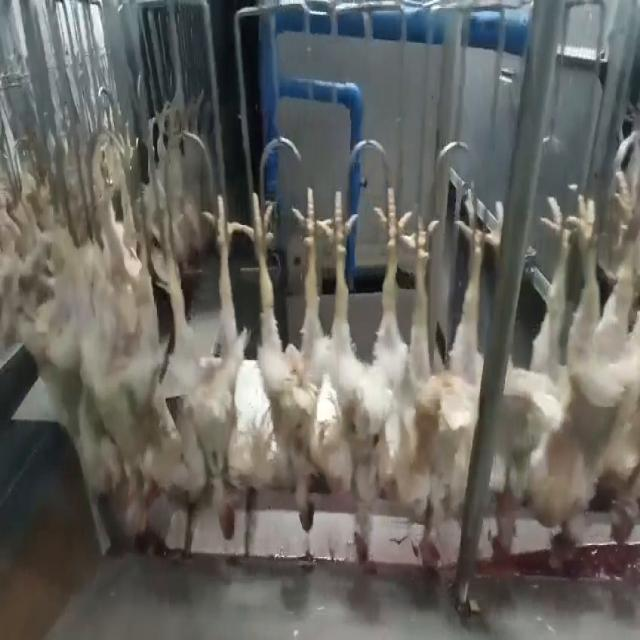chicken: (393, 210, 501, 581), (318, 181, 413, 574), (508, 183, 594, 570), (162, 195, 245, 545), (249, 180, 325, 555), (84, 204, 163, 540), (590, 156, 639, 556)
